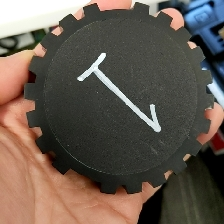gear: (22, 1, 216, 196)
missing: (51, 154, 117, 196), (82, 1, 152, 21)
